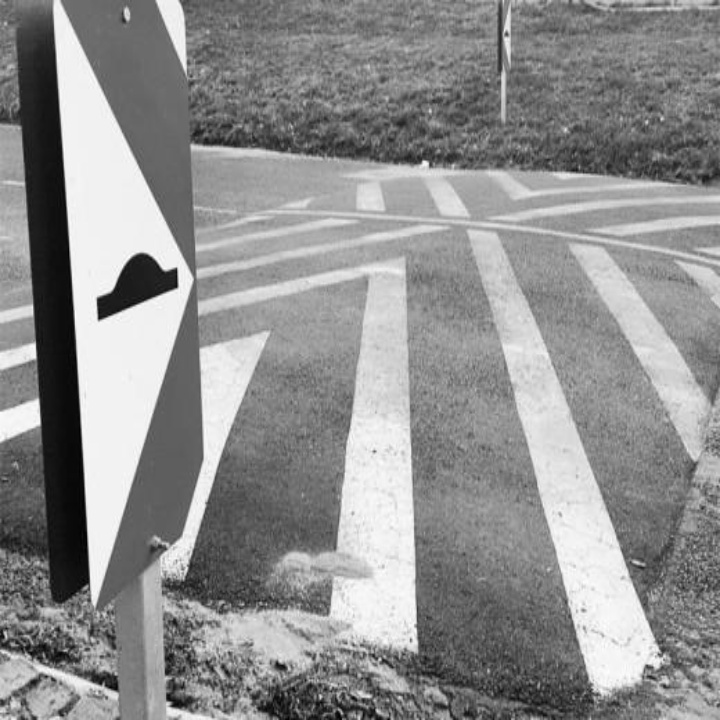bump: (66, 236, 192, 314)
